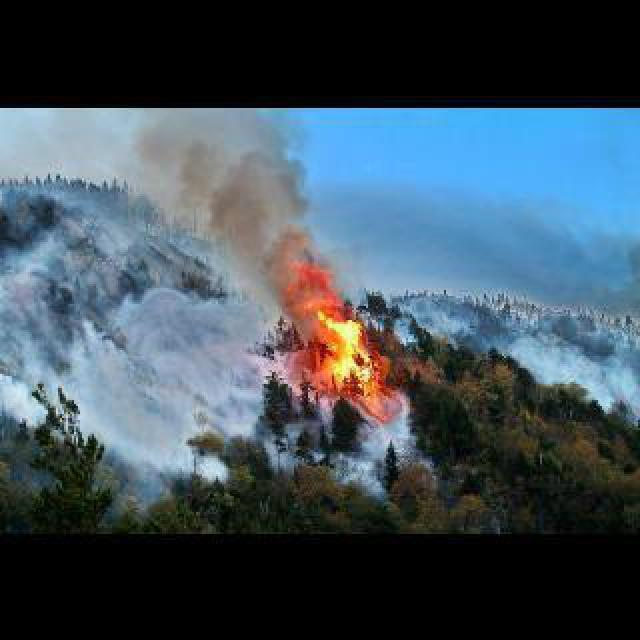fire: (275, 255, 398, 417)
